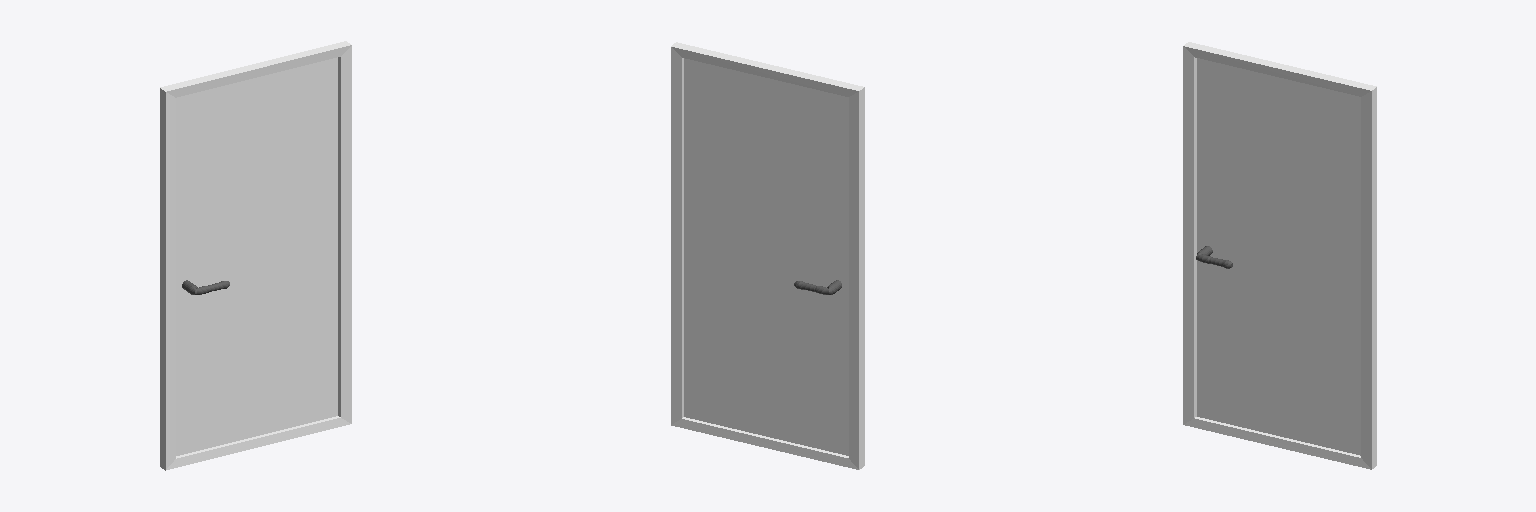
File: door.obj
3 views of the same model, side by side, from view 1: azimuth 30°, elevation 25°; view 2: azimuth 150°, elevation 25°; view 3: azimuth 330°, elevation 25° (orthographic).
Visible parts, largest first — view 1: door_01 einrichtung; view 2: door_01 einrichtung; view 3: door_01 einrichtung.
Part boxes in pixels (x1,y1,x2,y2): door_01 einrichtung: (160, 41, 351, 470); door_01 einrichtung: (671, 42, 864, 469); door_01 einrichtung: (1183, 42, 1376, 469).
Size of the model in its own units: 1.25 by 2.42 by 0.2916.